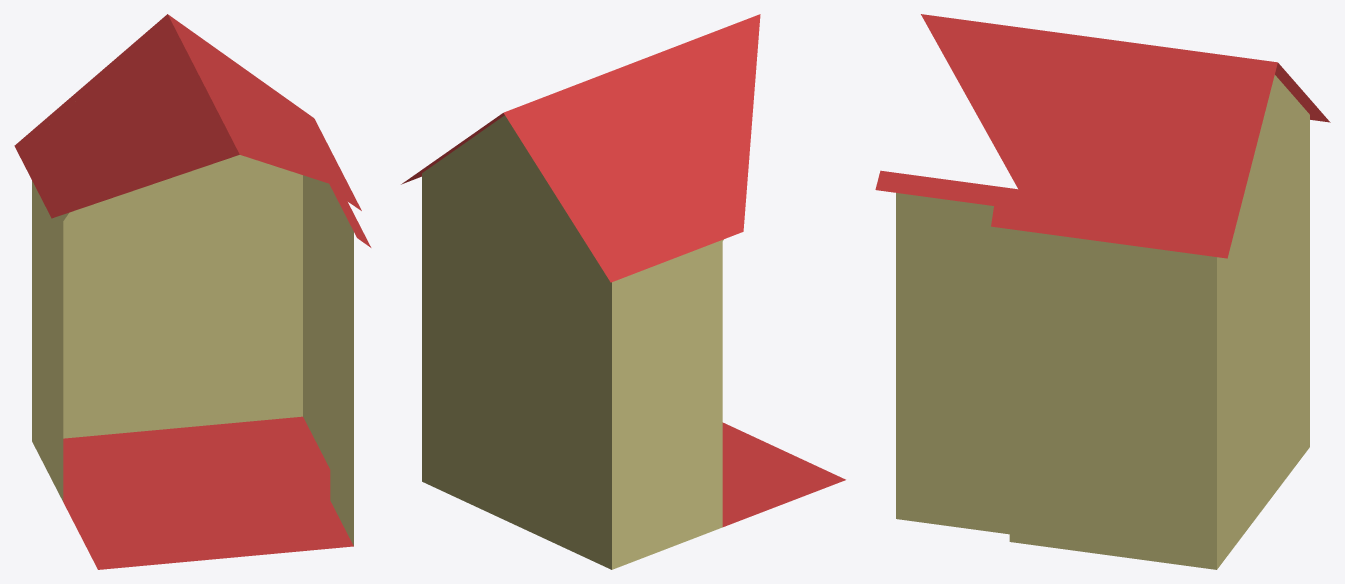
The picture shows the model from 3 angles, left to right: view 1: azimuth 30°, elevation 25°; view 2: azimuth 150°, elevation 25°; view 3: azimuth 270°, elevation 25°; orthographic projection. The views are drawn at different scales.
Size of the model in its own units: 12.69 by 13.9 by 15.15.
